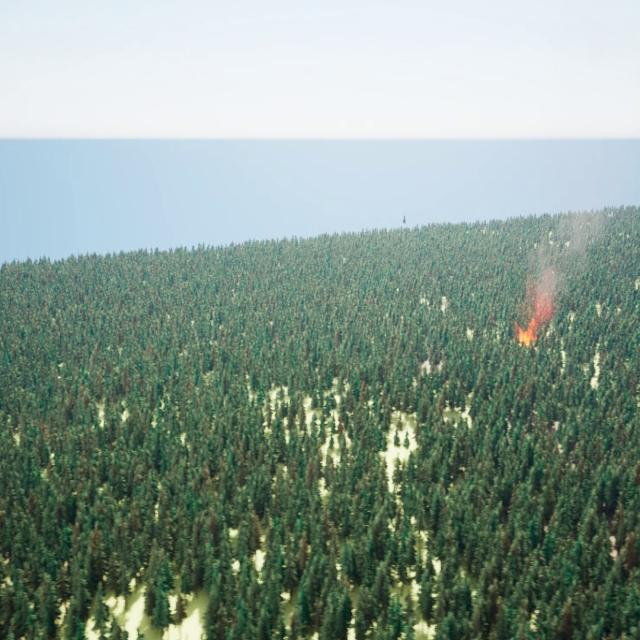fire: (516, 316, 540, 350)
smoke: (528, 206, 603, 317)
